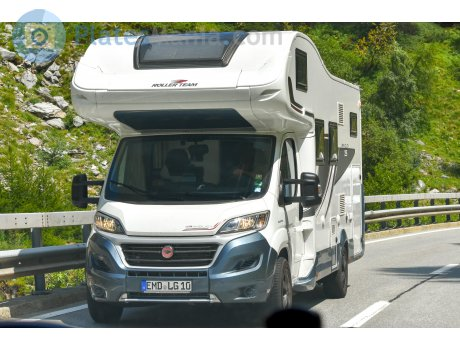License Plates: (144, 276, 195, 293)
